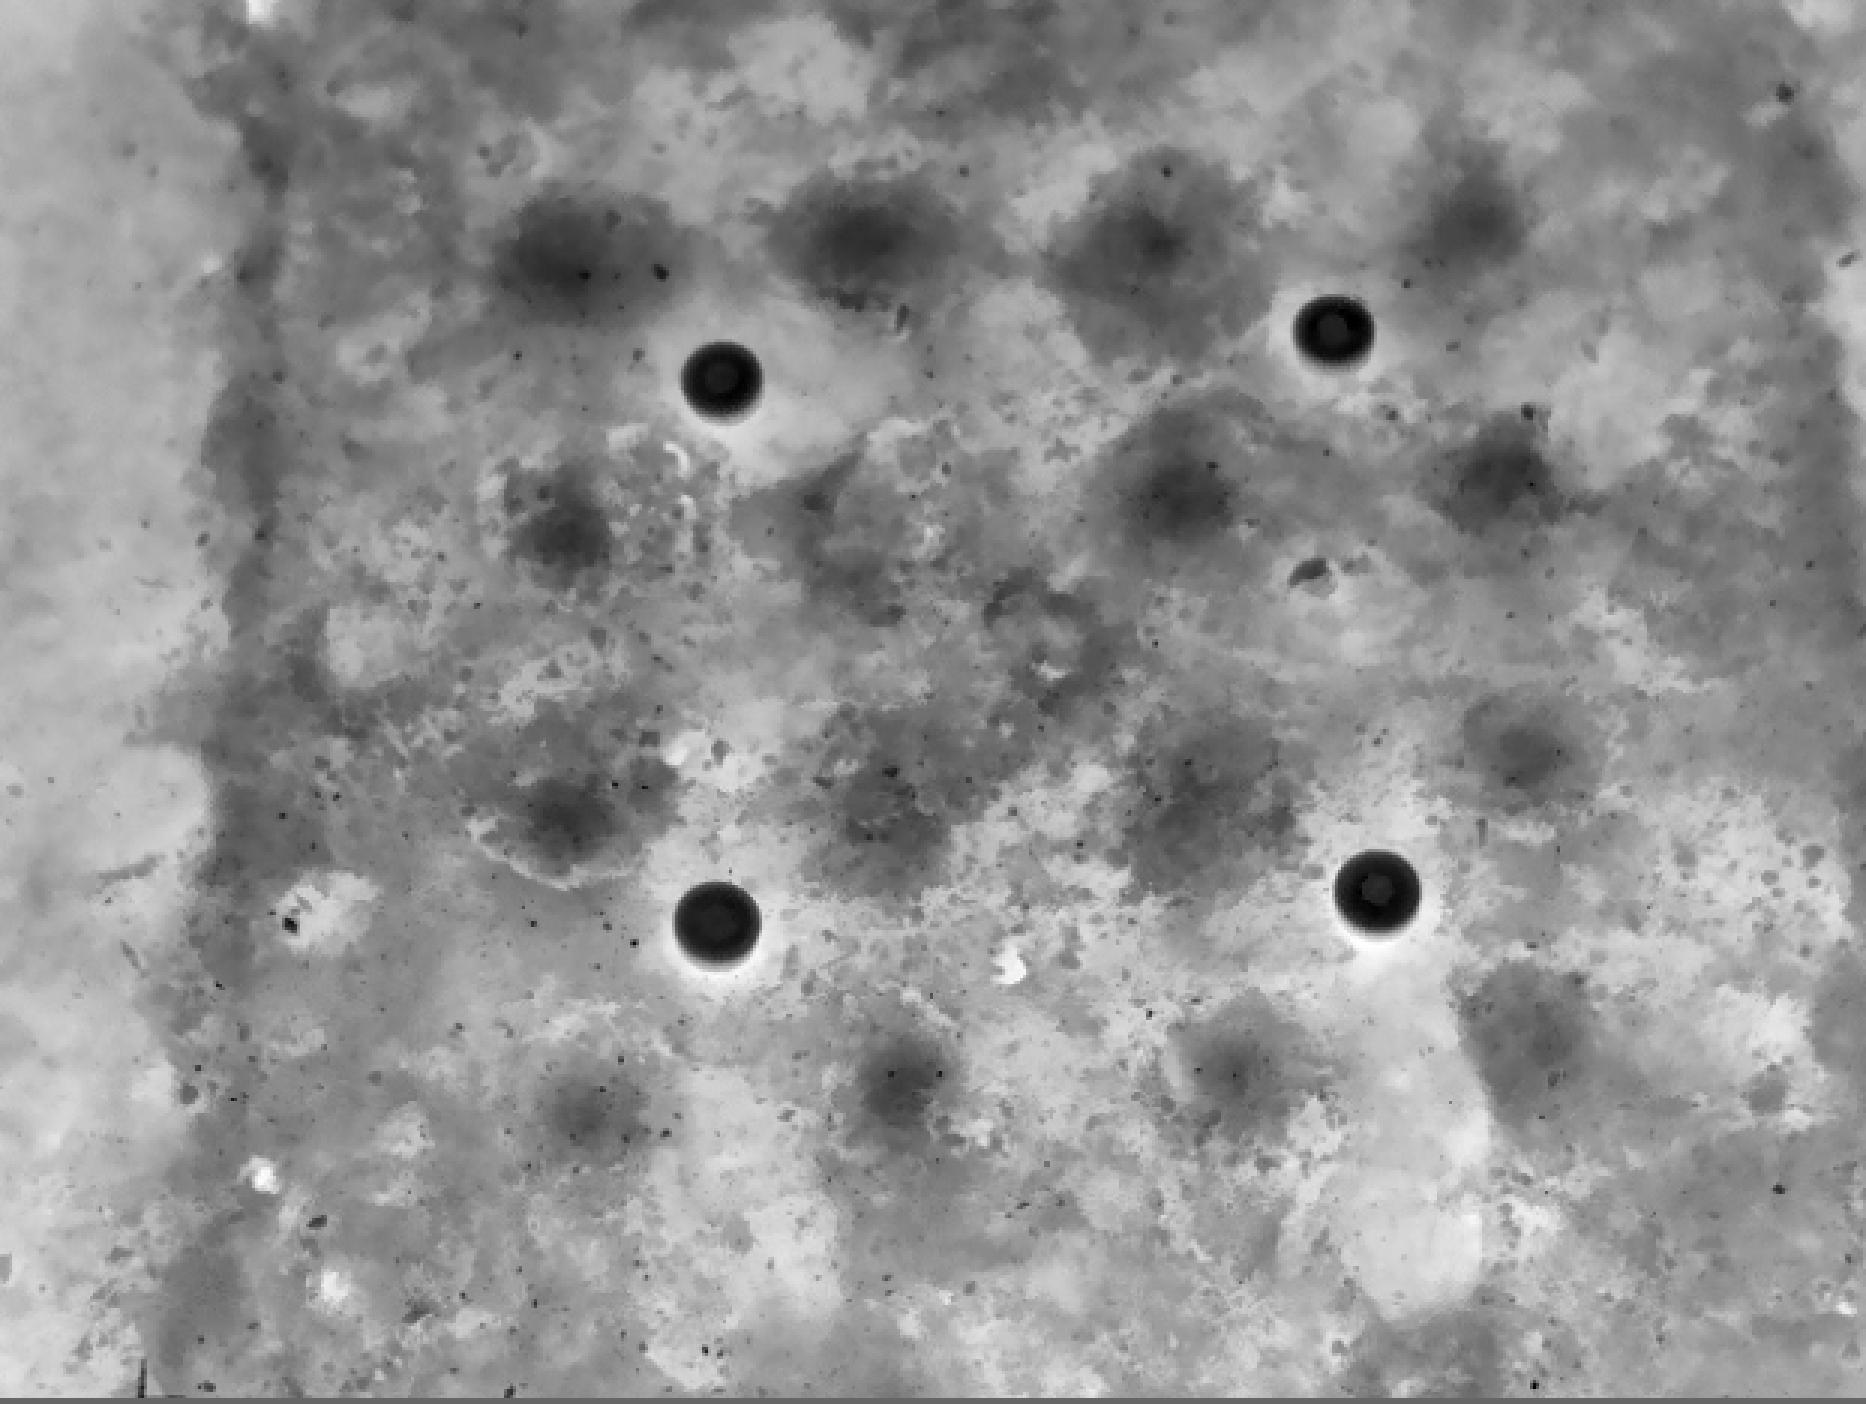mines-gjV8: (668, 882, 773, 967), (1342, 845, 1443, 934), (1288, 295, 1376, 369), (687, 342, 760, 413)
